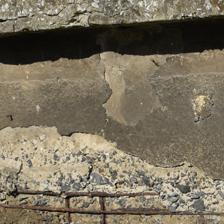Crack: (25, 93, 93, 130), (0, 184, 61, 224), (69, 48, 93, 73), (52, 85, 67, 99)
